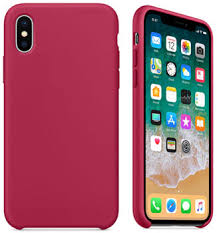iphone: (128, 4, 214, 229)
